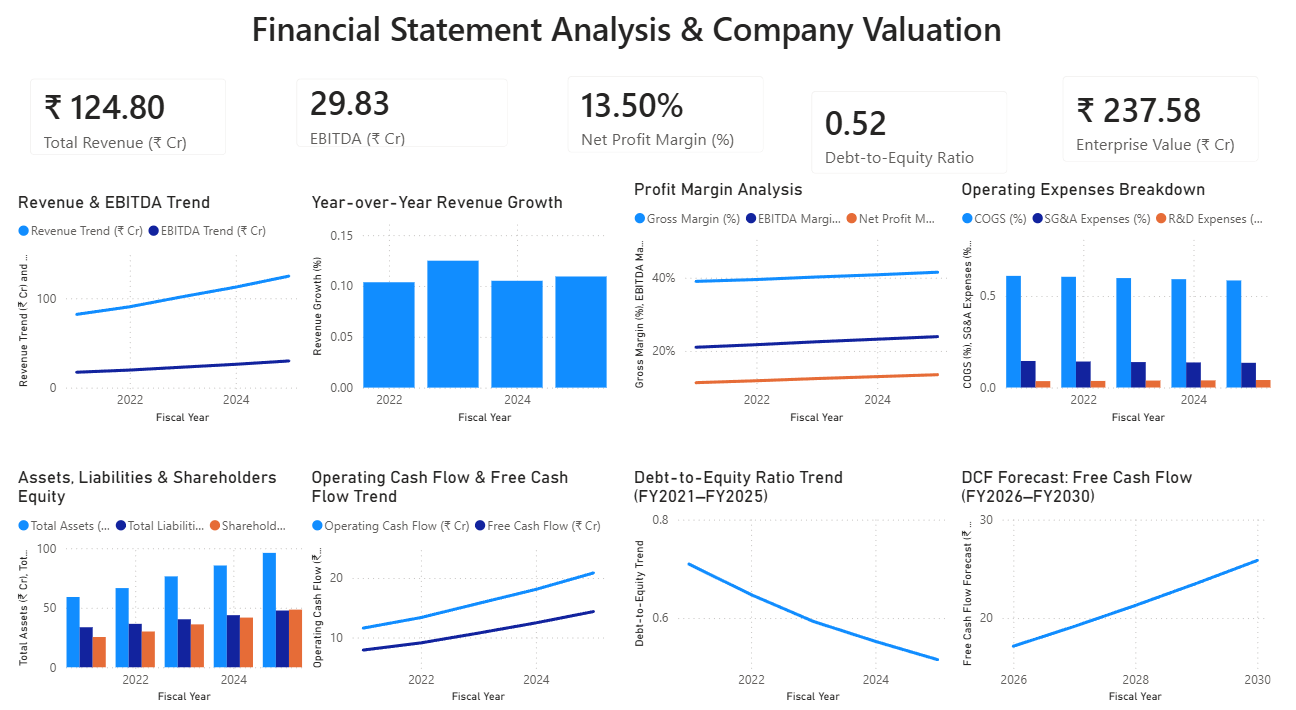

Layout of this report page (visuals, bound fields, positions):
{"tool":"powerbi","page":{"name":"Page 1","canvas":[1280,720],"ordinal":0},"visuals":[{"type":"cardVisual","fields":{"Data":["Financial_Statements.Total Revenue (₹ Cr)"]},"box":[22.8,69.8,226,109.2],"z":0},{"type":"cardVisual","fields":{"Data":["Financial_Statements.EBITDA Latest Year (₹ Cr)"]},"box":[283.7,69.8,241.2,101.6],"z":1},{"type":"cardVisual","fields":{"Data":["Financial_Statements.Net Profit Margin (%)"]},"box":[549.1,66.7,226,109.2],"z":2},{"type":"cardVisual","fields":{"Data":["Financial_Statements.Debt-to-Equity Ratio"]},"box":[787.3,81.9,226,115.3],"z":3},{"type":"cardVisual","fields":{"Data":["DCF_Forecast.Enterprise Value (₹ Cr)"]},"box":[1033,66.7,226,118.3],"z":4},{"type":"lineChart","title":"Revenue & EBITDA Trend","fields":{"Category":["Financial_Statements.Fiscal_Year"],"Y":["Financial_Statements.Revenue Trend (₹ Cr)","Financial_Statements.EBITDA Trend (₹ Cr)"]},"box":[22.8,197.2,288.2,232.1],"z":5},{"type":"clusteredColumnChart","title":"Year-over-Year Revenue Growth","fields":{"Y":["Financial_Statements.Revenue Growth (%)"],"Category":["Financial_Statements.Fiscal_Year"]},"box":[311,197.2,298.8,232.1],"z":6},{"type":"lineChart","title":"Profit Margin Analysis","fields":{"Category":["Financial_Statements.Fiscal_Year"],"Y":["Financial_Statements.Gross Margin (%)","Financial_Statements.EBITDA Margin (%)","Financial_Statements.Net Profit Margin (%)"]},"box":[626.5,185.1,320.1,244.2],"z":7},{"type":"clusteredColumnChart","title":"Operating Expenses Breakdown","fields":{"Category":["Financial_Statements.Fiscal_Year"],"Y":["Financial_Statements.COGS (%)","Financial_Statements.SG&A Expenses (%)","Financial_Statements.R&D Expenses (%)"]},"box":[946.6,185.1,312.5,244.2],"z":8},{"type":"clusteredColumnChart","title":"Assets, Liabilities & Shareholders Equity","fields":{"Category":["Financial_Statements.Fiscal_Year"],"Y":["Financial_Statements.Total Assets (₹ Cr)","Financial_Statements.Total Liabilities (₹ Cr)","Financial_Statements.Shareholders' Equity (₹ Cr)"]},"box":[22.8,465.7,288.2,236.6],"z":9},{"type":"lineChart","title":"Operating Cash Flow & Free Cash Flow Trend","fields":{"Category":["Financial_Statements.Fiscal_Year"],"Y":["Financial_Statements.Operating Cash Flow (₹ Cr)","Financial_Statements.Free Cash Flow (₹ Cr)"]},"box":[311,465.7,298.8,236.6],"z":10},{"type":"lineChart","title":"Debt-to-Equity Ratio Trend (FY2021–FY2025)","fields":{"Category":["Financial_Statements.Fiscal_Year"],"Y":["Financial_Statements.Debt-to-Equity Trend"]},"box":[626.5,465.7,320.1,236.6],"z":11},{"type":"lineChart","title":"DCF Forecast: Free Cash Flow (FY2026–FY2030)","fields":{"Category":["DCF_Forecast.Fiscal_Year"],"Y":["DCF_Forecast.Free Cash Flow Forecast (₹ Cr)"]},"box":[946.6,465.7,312.5,236.6],"z":12},{"type":"textbox","box":[100.1,10.6,1046.7,59.2],"z":13}]}

Visuals, with their boxes in screenshot pixels (x1, y1, x2, y2), scaled from the page's 1280x720 canvas onto the 1296x710 screenshot:
cardVisual - Financial_Statements.Total Revenue (₹ Cr): <bbox>23, 69, 252, 177</bbox>
cardVisual - Financial_Statements.EBITDA Latest Year (₹ Cr): <bbox>287, 69, 531, 169</bbox>
cardVisual - Financial_Statements.Net Profit Margin (%): <bbox>556, 66, 785, 173</bbox>
cardVisual - Financial_Statements.Debt-to-Equity Ratio: <bbox>797, 81, 1026, 194</bbox>
cardVisual - DCF_Forecast.Enterprise Value (₹ Cr): <bbox>1046, 66, 1275, 182</bbox>
"Revenue & EBITDA Trend" lineChart: <bbox>23, 194, 315, 423</bbox>
"Year-over-Year Revenue Growth" clusteredColumnChart: <bbox>315, 194, 617, 423</bbox>
"Profit Margin Analysis" lineChart: <bbox>634, 183, 958, 423</bbox>
"Operating Expenses Breakdown" clusteredColumnChart: <bbox>958, 183, 1275, 423</bbox>
"Assets, Liabilities & Shareholders Equity" clusteredColumnChart: <bbox>23, 459, 315, 693</bbox>
"Operating Cash Flow & Free Cash Flow Trend" lineChart: <bbox>315, 459, 617, 693</bbox>
"Debt-to-Equity Ratio Trend (FY2021–FY2025)" lineChart: <bbox>634, 459, 958, 693</bbox>
"DCF Forecast: Free Cash Flow (FY2026–FY2030)" lineChart: <bbox>958, 459, 1275, 693</bbox>
textbox: <bbox>101, 10, 1161, 69</bbox>
